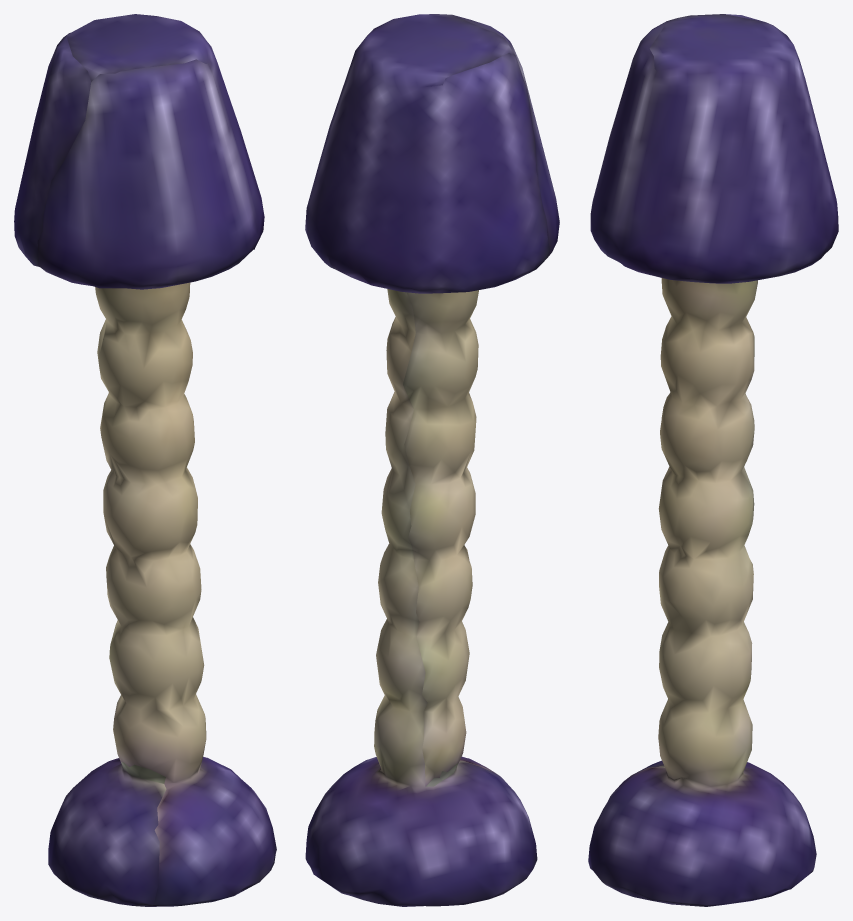
File: 3D_Dollhouse_Lamp-medium.glb
The picture shows the model from 3 angles, left to right: view 1: azimuth 30°, elevation 25°; view 2: azimuth 150°, elevation 25°; view 3: azimuth 270°, elevation 25°; orthographic projection.
Visible parts, largest first — view 1: 3D_Dollhouse_Lamp; view 2: 3D_Dollhouse_Lamp; view 3: 3D_Dollhouse_Lamp.
Part boxes in pixels (x1,y1,x2,y2): 3D_Dollhouse_Lamp: [14, 14, 276, 906]; 3D_Dollhouse_Lamp: [305, 14, 559, 906]; 3D_Dollhouse_Lamp: [588, 14, 838, 906].
Size of the model in its own units: 0.048 by 0.1668 by 0.0464.
1 material, 1 textured.
